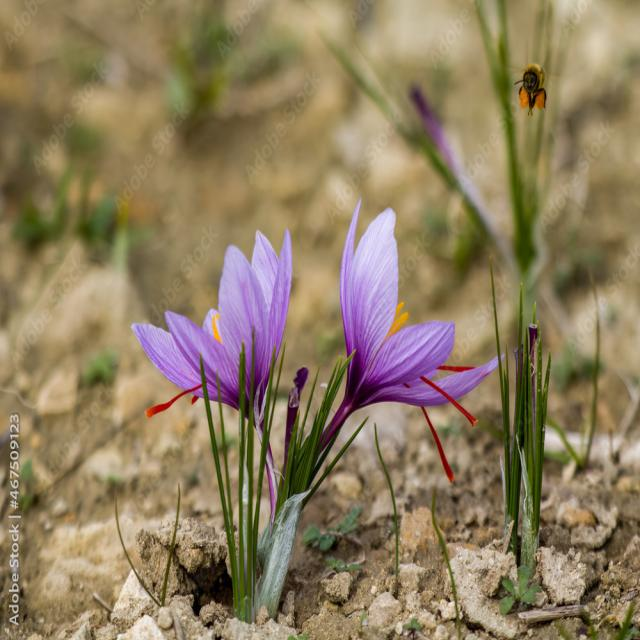saffron open: (330, 204, 498, 437), (132, 231, 292, 437)
